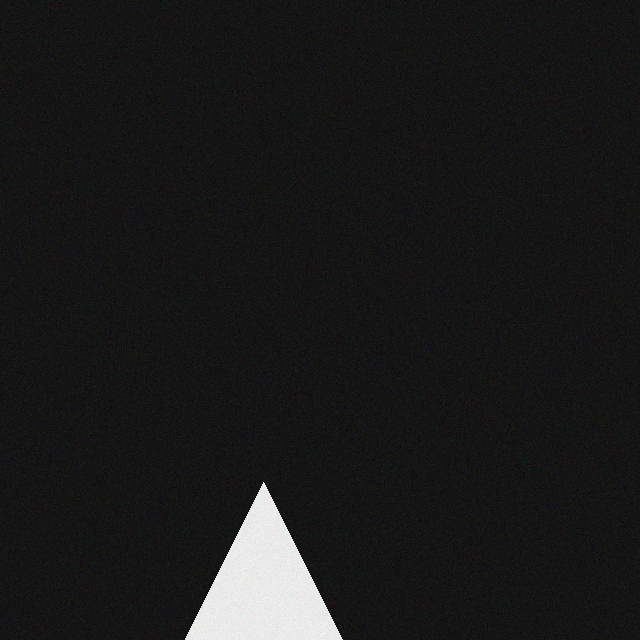triangle: (173, 471, 330, 628)
